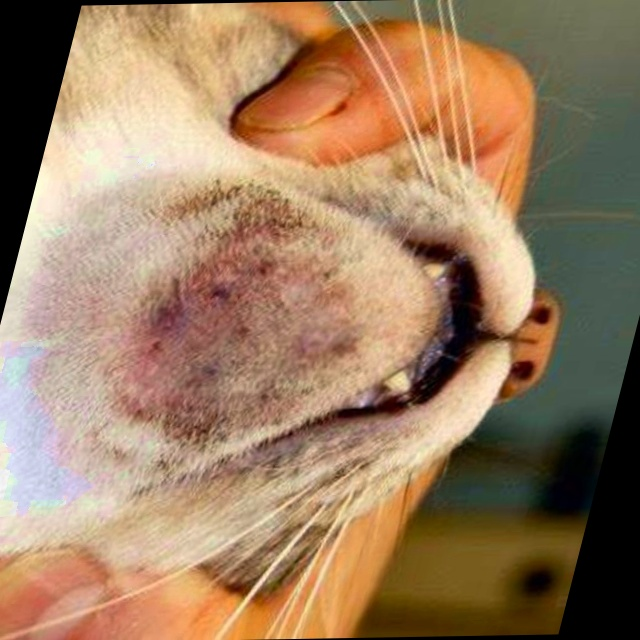acne: (99, 198, 393, 456)
